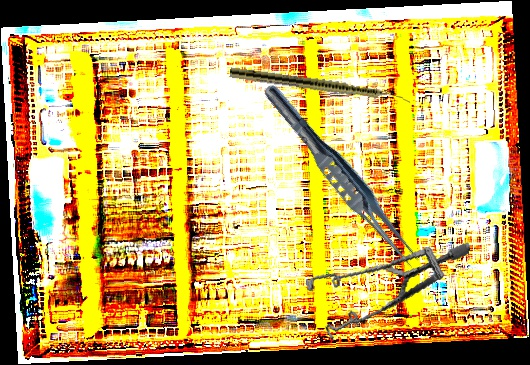Handpiece: (228, 66, 414, 106)
Speculum: (295, 212, 472, 363)
Tissue Forceps: (253, 78, 431, 276)
